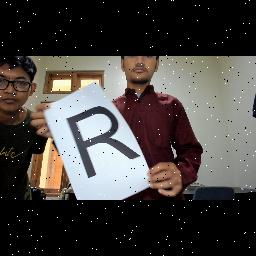r: (60, 103, 138, 185)
